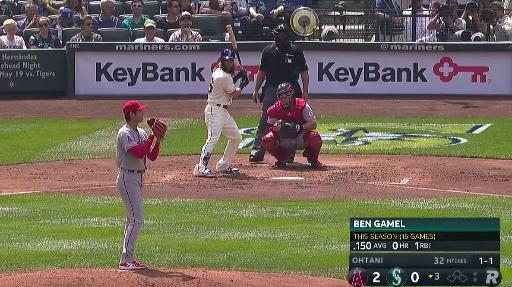pitcher: (116, 100, 168, 271)
